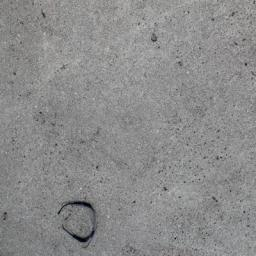FOD: (56, 200, 102, 253), (101, 252, 102, 253)
